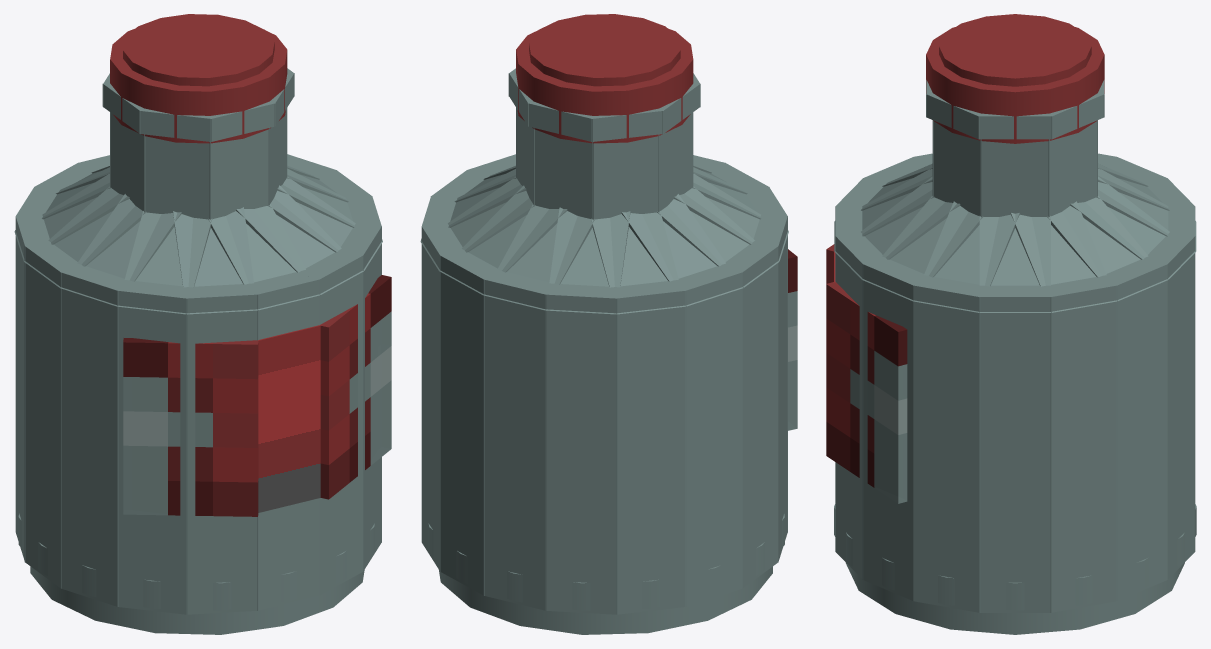
File: CMU3DRMCDrinkAlcoholVodkaDrinksExtraCloud.glb
The picture shows the model from 3 angles, left to right: view 1: azimuth 30°, elevation 25°; view 2: azimuth 150°, elevation 25°; view 3: azimuth 270°, elevation 25°; orthographic projection.
Parts seen in each view (by area): view 1: source front label tangent 0, continuous hollow body wall 09, continuous hollow body wall 10, continuous hollow body wall 08, continuous hollow body wall 11, source front label tangent 2, source front label tangent 1, continuous hollow body wall 12, cap top crown, continuous hollow body wall 13, source closure cap, thick bottle heel (+26 smaller); view 2: continuous hollow body wall 05, continuous hollow body wall 06, continuous hollow body wall 04, continuous hollow body wall 07, continuous hollow body wall 03, continuous hollow body wall 08, cap top crown, source closure cap, continuous hollow body wall 02, thick bottle heel, hollow bottle neck 04, hollow bottle neck 03 (+24 smaller); view 3: continuous hollow body wall 00, continuous hollow body wall 01, continuous hollow body wall 15, continuous hollow body wall 02, source front label tangent 2, continuous hollow body wall 14, continuous hollow body wall 03, cap top crown, source closure cap, thick bottle heel, continuous hollow body wall 13, hollow bottle neck 01 (+23 smaller).
Boxes of the visible parts, x1=… form: source front label tangent 0: x1=123, y1=338, x2=258, y2=516; continuous hollow body wall 09: x1=60, y1=266, x2=135, y2=606; continuous hollow body wall 10: x1=117, y1=280, x2=194, y2=614; continuous hollow body wall 08: x1=24, y1=241, x2=85, y2=588; continuous hollow body wall 11: x1=182, y1=282, x2=258, y2=614; source front label tangent 2: x1=320, y1=275, x2=391, y2=499; source front label tangent 1: x1=258, y1=324, x2=321, y2=512; continuous hollow body wall 12: x1=246, y1=272, x2=319, y2=610; cap top crown: x1=123, y1=14, x2=274, y2=86; continuous hollow body wall 13: x1=296, y1=248, x2=363, y2=595; source closure cap: x1=110, y1=28, x2=287, y2=143; thick bottle heel: x1=30, y1=566, x2=364, y2=634; continuous hollow body wall 05: x1=545, y1=284, x2=620, y2=614; continuous hollow body wall 06: x1=611, y1=279, x2=686, y2=614; continuous hollow body wall 04: x1=483, y1=272, x2=560, y2=610; continuous hollow body wall 07: x1=670, y1=263, x2=742, y2=606; continuous hollow body wall 03: x1=440, y1=248, x2=506, y2=595; continuous hollow body wall 08: x1=718, y1=240, x2=778, y2=588; cap top crown: x1=529, y1=14, x2=680, y2=86; source closure cap: x1=516, y1=28, x2=693, y2=143; continuous hollow body wall 02: x1=422, y1=223, x2=462, y2=571; thick bottle heel: x1=439, y1=566, x2=772, y2=634; hollow bottle neck 04: x1=592, y1=134, x2=659, y2=219; hollow bottle neck 03: x1=533, y1=128, x2=593, y2=219; continuous hollow body wall 00: x1=979, y1=285, x2=1051, y2=612; continuous hollow body wall 01: x1=1039, y1=274, x2=1117, y2=612; continuous hollow body wall 15: x1=913, y1=275, x2=990, y2=612; continuous hollow body wall 02: x1=1096, y1=256, x2=1167, y2=600; source front label tangent 2: x1=826, y1=282, x2=907, y2=503; continuous hollow body wall 14: x1=862, y1=256, x2=933, y2=600; continuous hollow body wall 03: x1=1147, y1=236, x2=1195, y2=579; cap top crown: x1=939, y1=14, x2=1091, y2=86; source closure cap: x1=926, y1=27, x2=1104, y2=143; thick bottle heel: x1=845, y1=562, x2=1184, y2=634; continuous hollow body wall 13: x1=835, y1=236, x2=886, y2=579; hollow bottle neck 01: x1=980, y1=139, x2=1049, y2=216.
Size of the model in its own units: 0.299 by 0.47 by 0.3053.
Materials: 5 (3 with a texture image).
